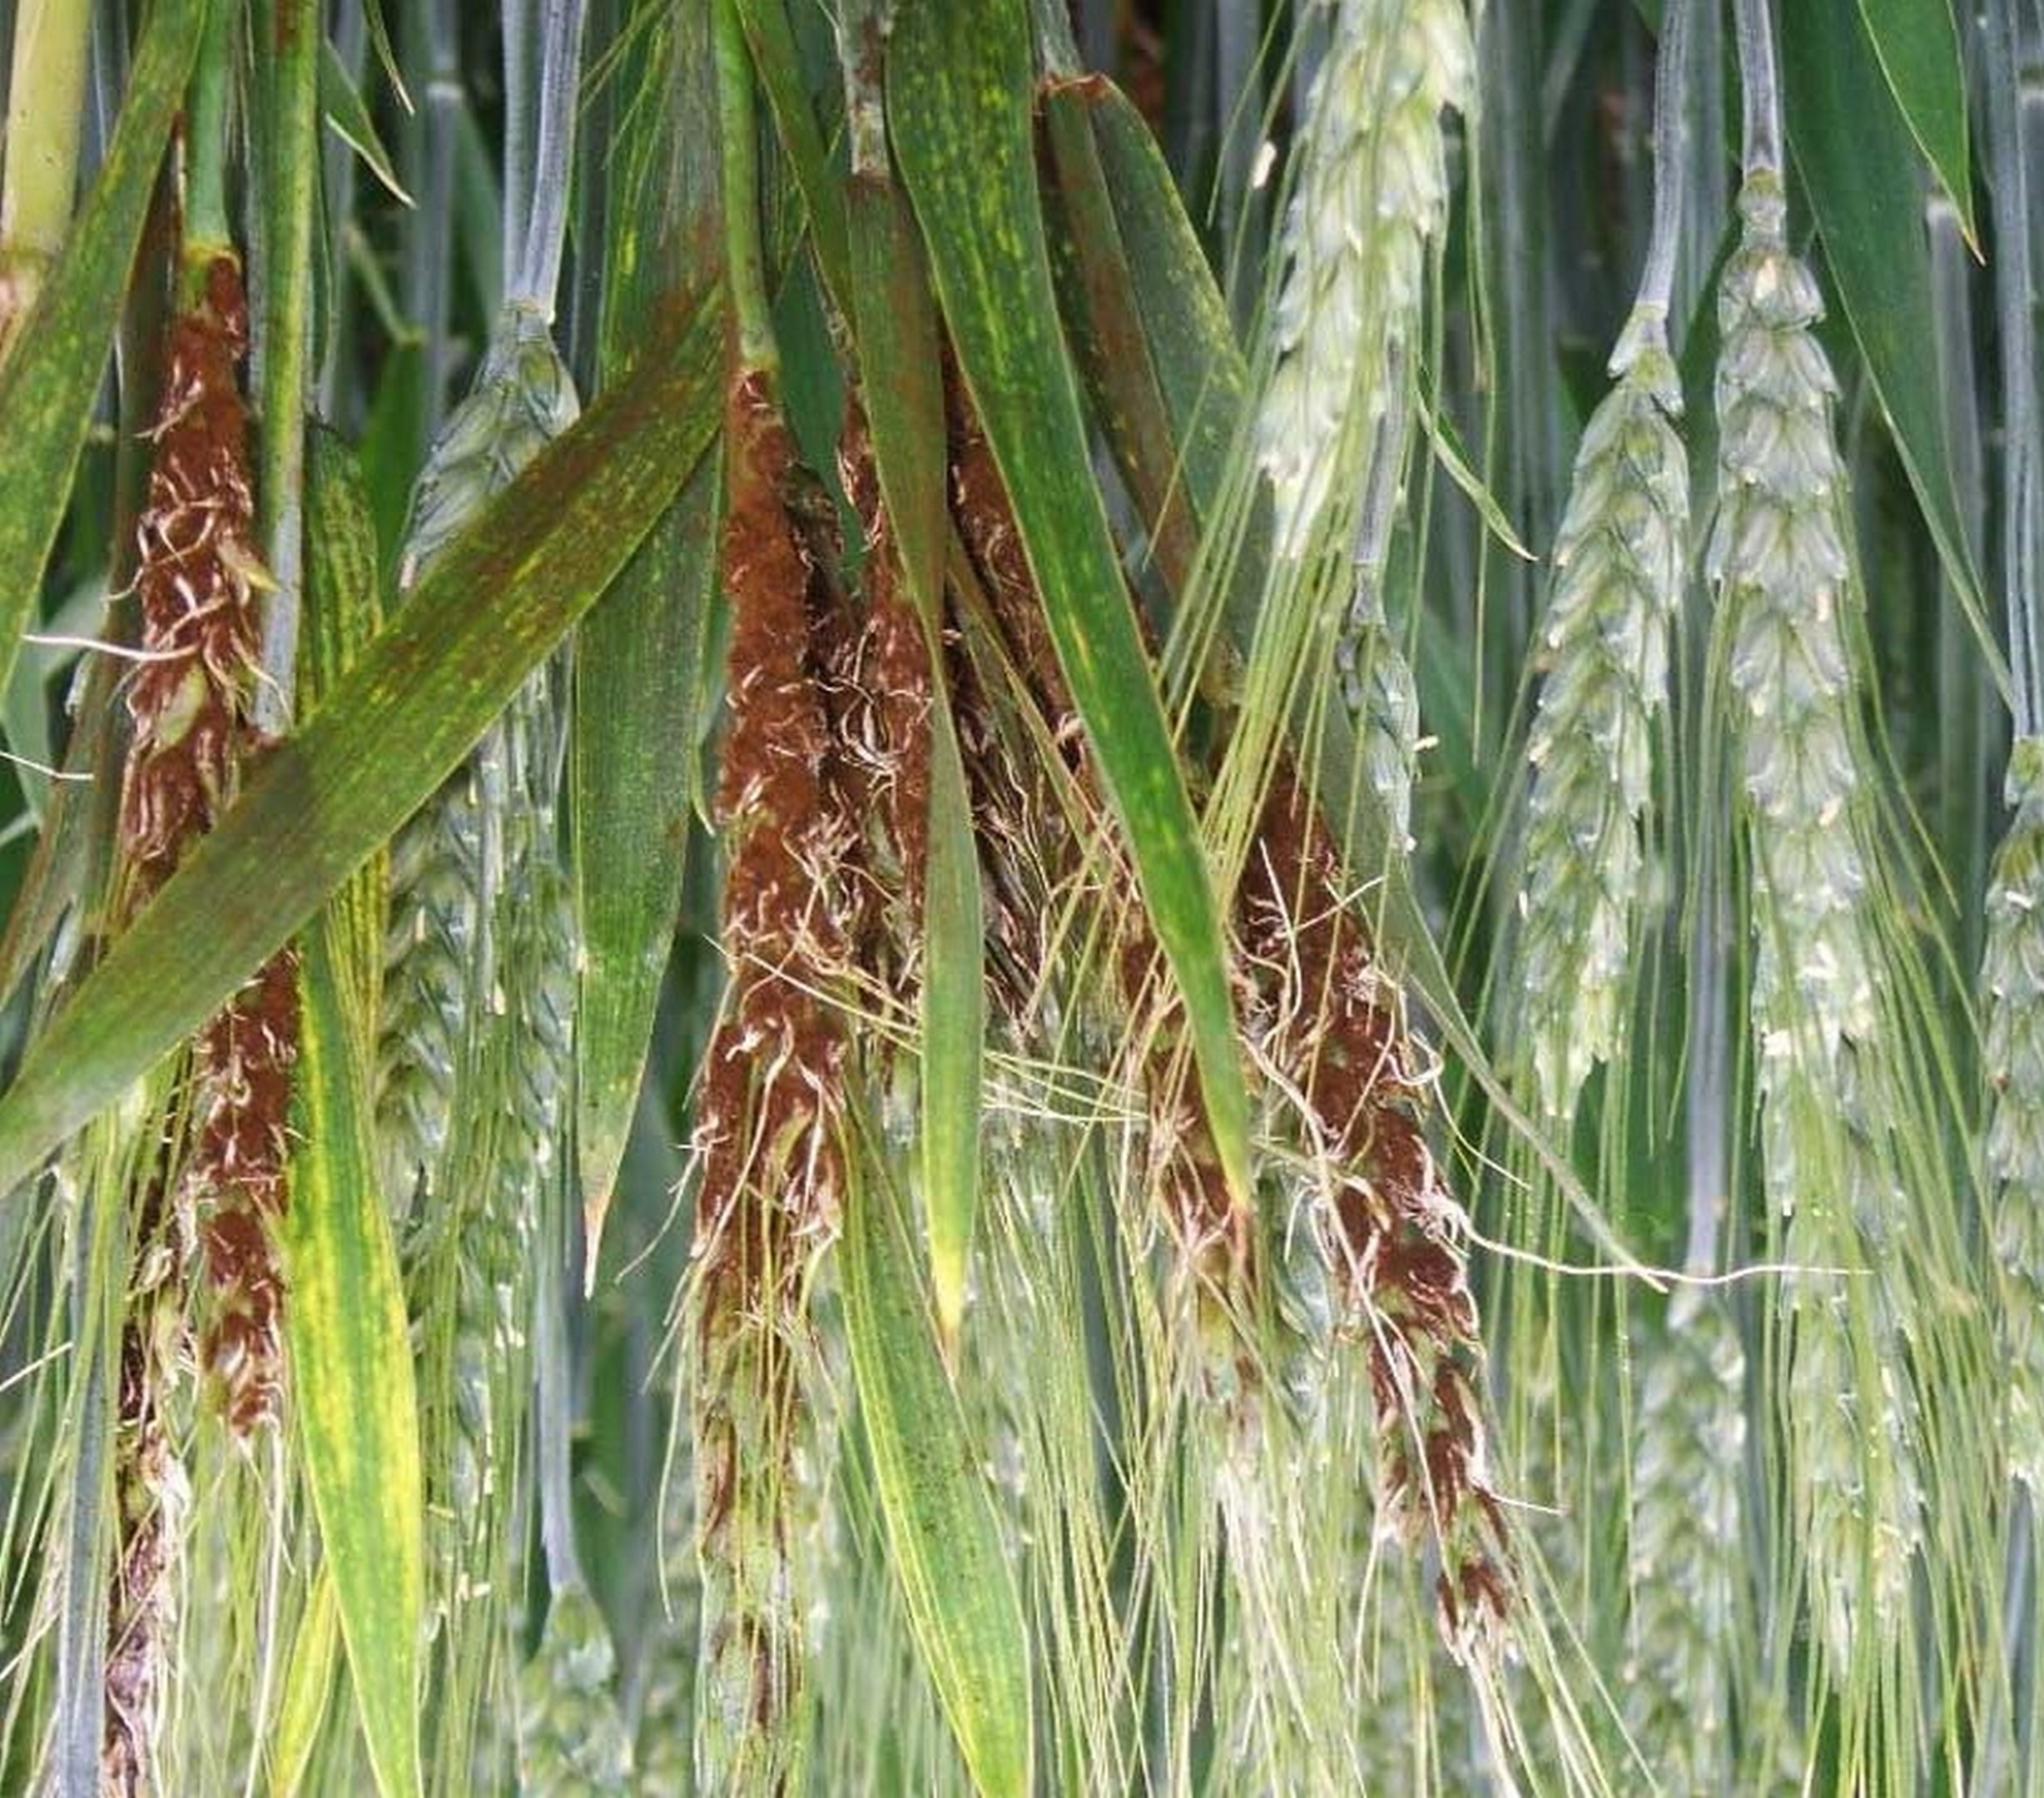Wheat Loose Smut: (692, 402, 1550, 1428), (113, 289, 330, 1405)
